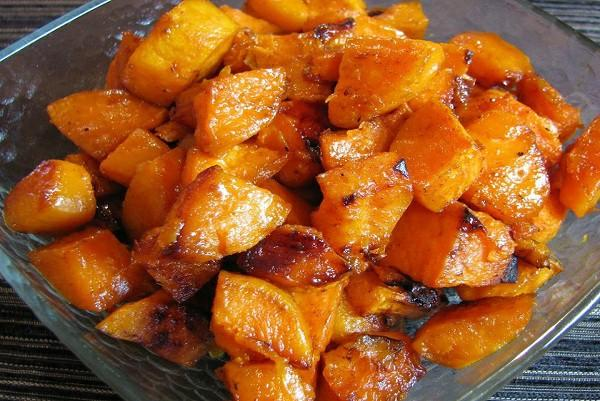AlooMasala: (7, 0, 600, 401)
